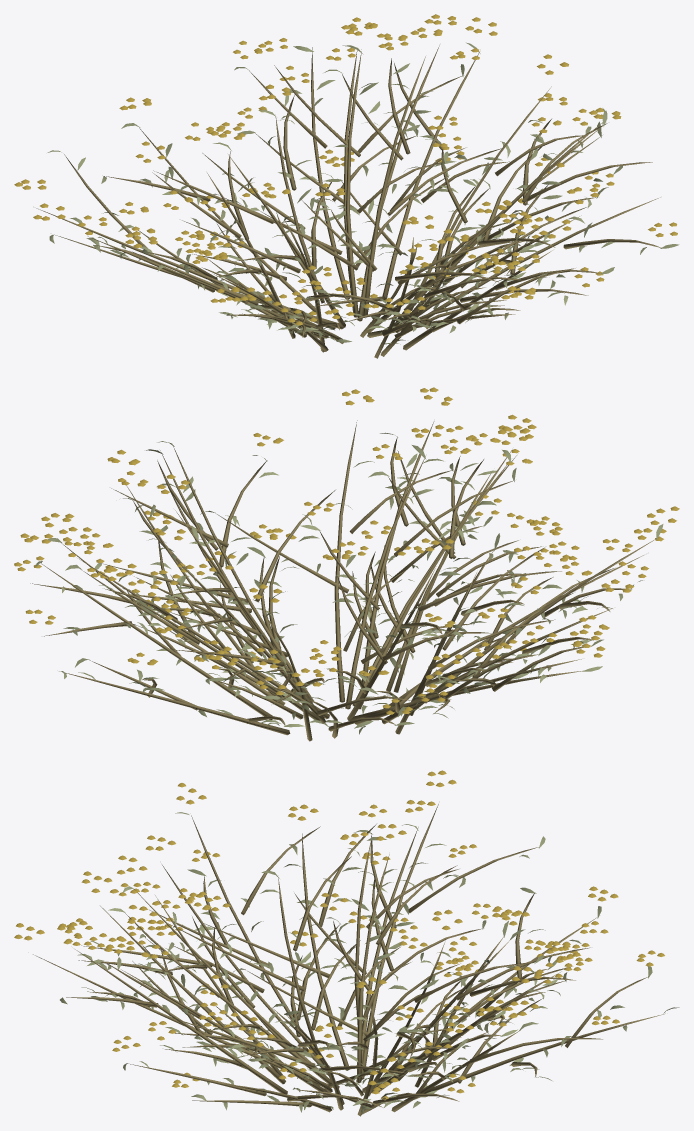
The model's file is Immortelle_Etale_LOD1.fbx.
The picture shows the model from 3 angles, top to bottom: view 1: azimuth 30°, elevation 25°; view 2: azimuth 150°, elevation 25°; view 3: azimuth 270°, elevation 25°; orthographic projection. The views are drawn at different scales.
Parts seen in each view (by area): view 1: Immortelle_Etale_LOD1; view 2: Immortelle_Etale_LOD1; view 3: Immortelle_Etale_LOD1.
Boxes of the visible parts, x1=… form: Immortelle_Etale_LOD1: x1=14, y1=14, x2=679, y2=358; Immortelle_Etale_LOD1: x1=14, y1=387, x2=679, y2=741; Immortelle_Etale_LOD1: x1=14, y1=770, x2=679, y2=1116.
Bounding box in the file's own units: 89.89 × 35.6 × 92.6.
